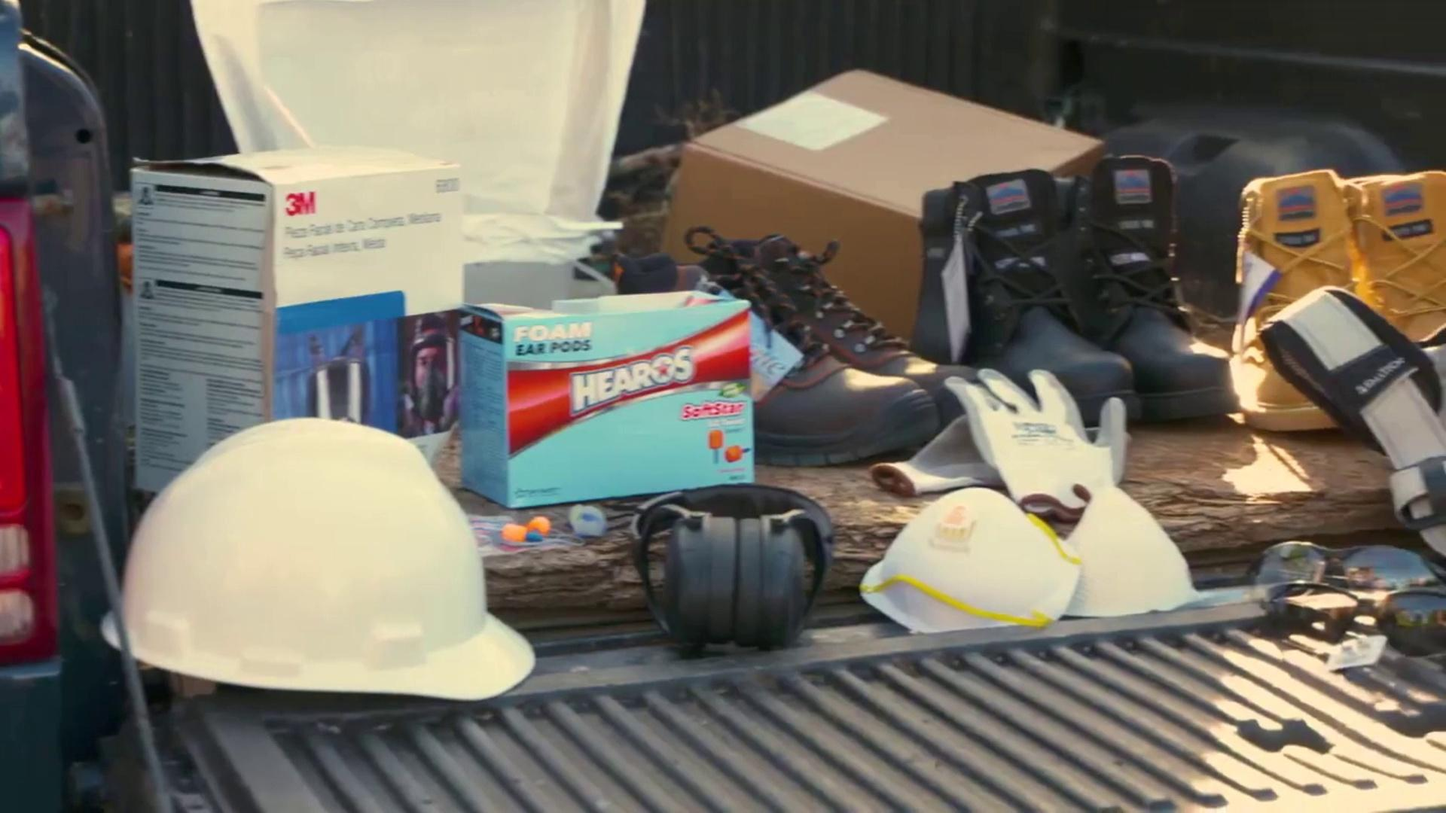Hard_hat: (118, 431, 514, 689)
